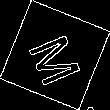M_NE: (23, 24, 87, 86)
